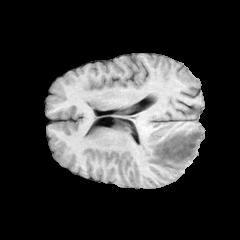glioma: (142, 127, 201, 172)
